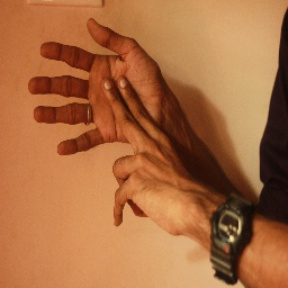N: (23, 13, 194, 232)
